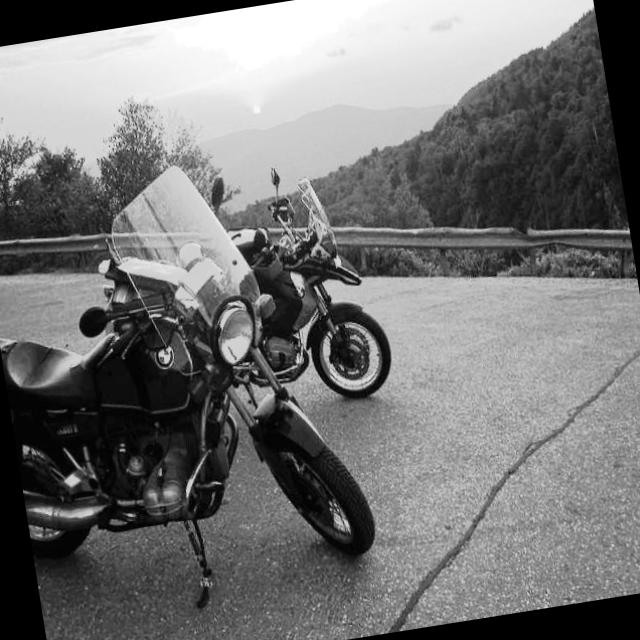Motorcycle: (0, 240, 309, 630), (121, 122, 398, 431)
